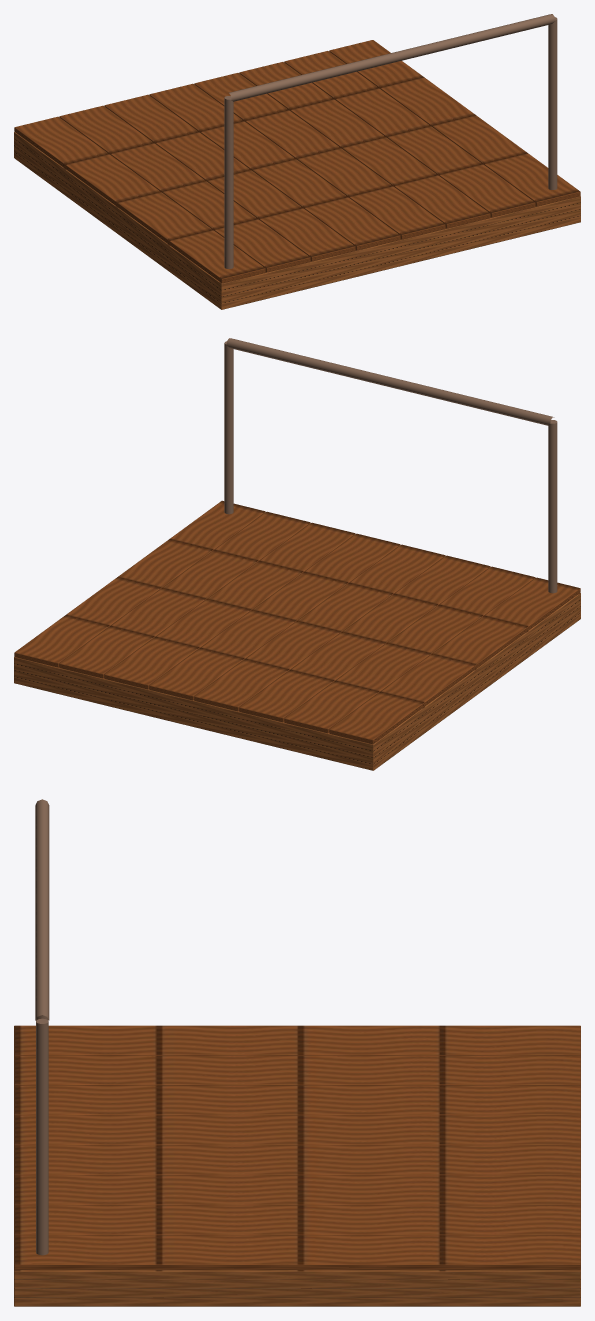
The model's file is paranormal-investigation-house-stair-landing-9c03e4ea__26707.glb.
The picture shows the model from 3 angles, top to bottom: view 1: azimuth 30°, elevation 25°; view 2: azimuth 150°, elevation 25°; view 3: azimuth 270°, elevation 25°; orthographic projection. The views are drawn at different scales.
Parts seen in each view (by area): view 1: stair-landing; view 2: stair-landing; view 3: stair-landing.
Boxes of the visible parts, x1,y1,x2,y2 form: stair-landing: (14, 14, 580, 309); stair-landing: (14, 338, 580, 770); stair-landing: (14, 799, 580, 1306).
Bounding box in the file's own units: 2 × 1.09 × 2.
Materials: 3 (2 with a texture image).
